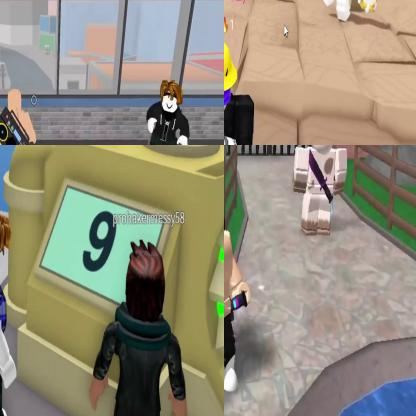Roblox-Avatar: (89, 239, 189, 416), (225, 192, 252, 416), (293, 146, 349, 237), (1, 212, 18, 416), (225, 40, 256, 145), (147, 80, 191, 145), (1, 89, 38, 145), (322, 1, 365, 23)
